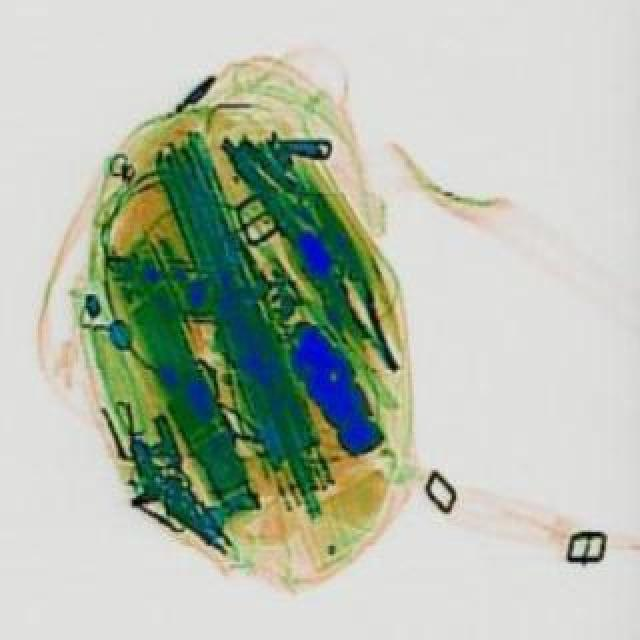wrench: (336, 268, 414, 372)
